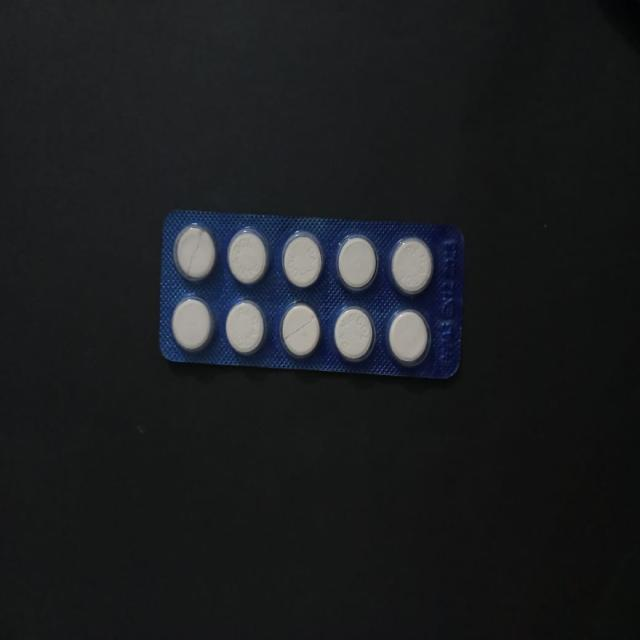defect: (172, 222, 218, 281), (280, 301, 321, 360)
